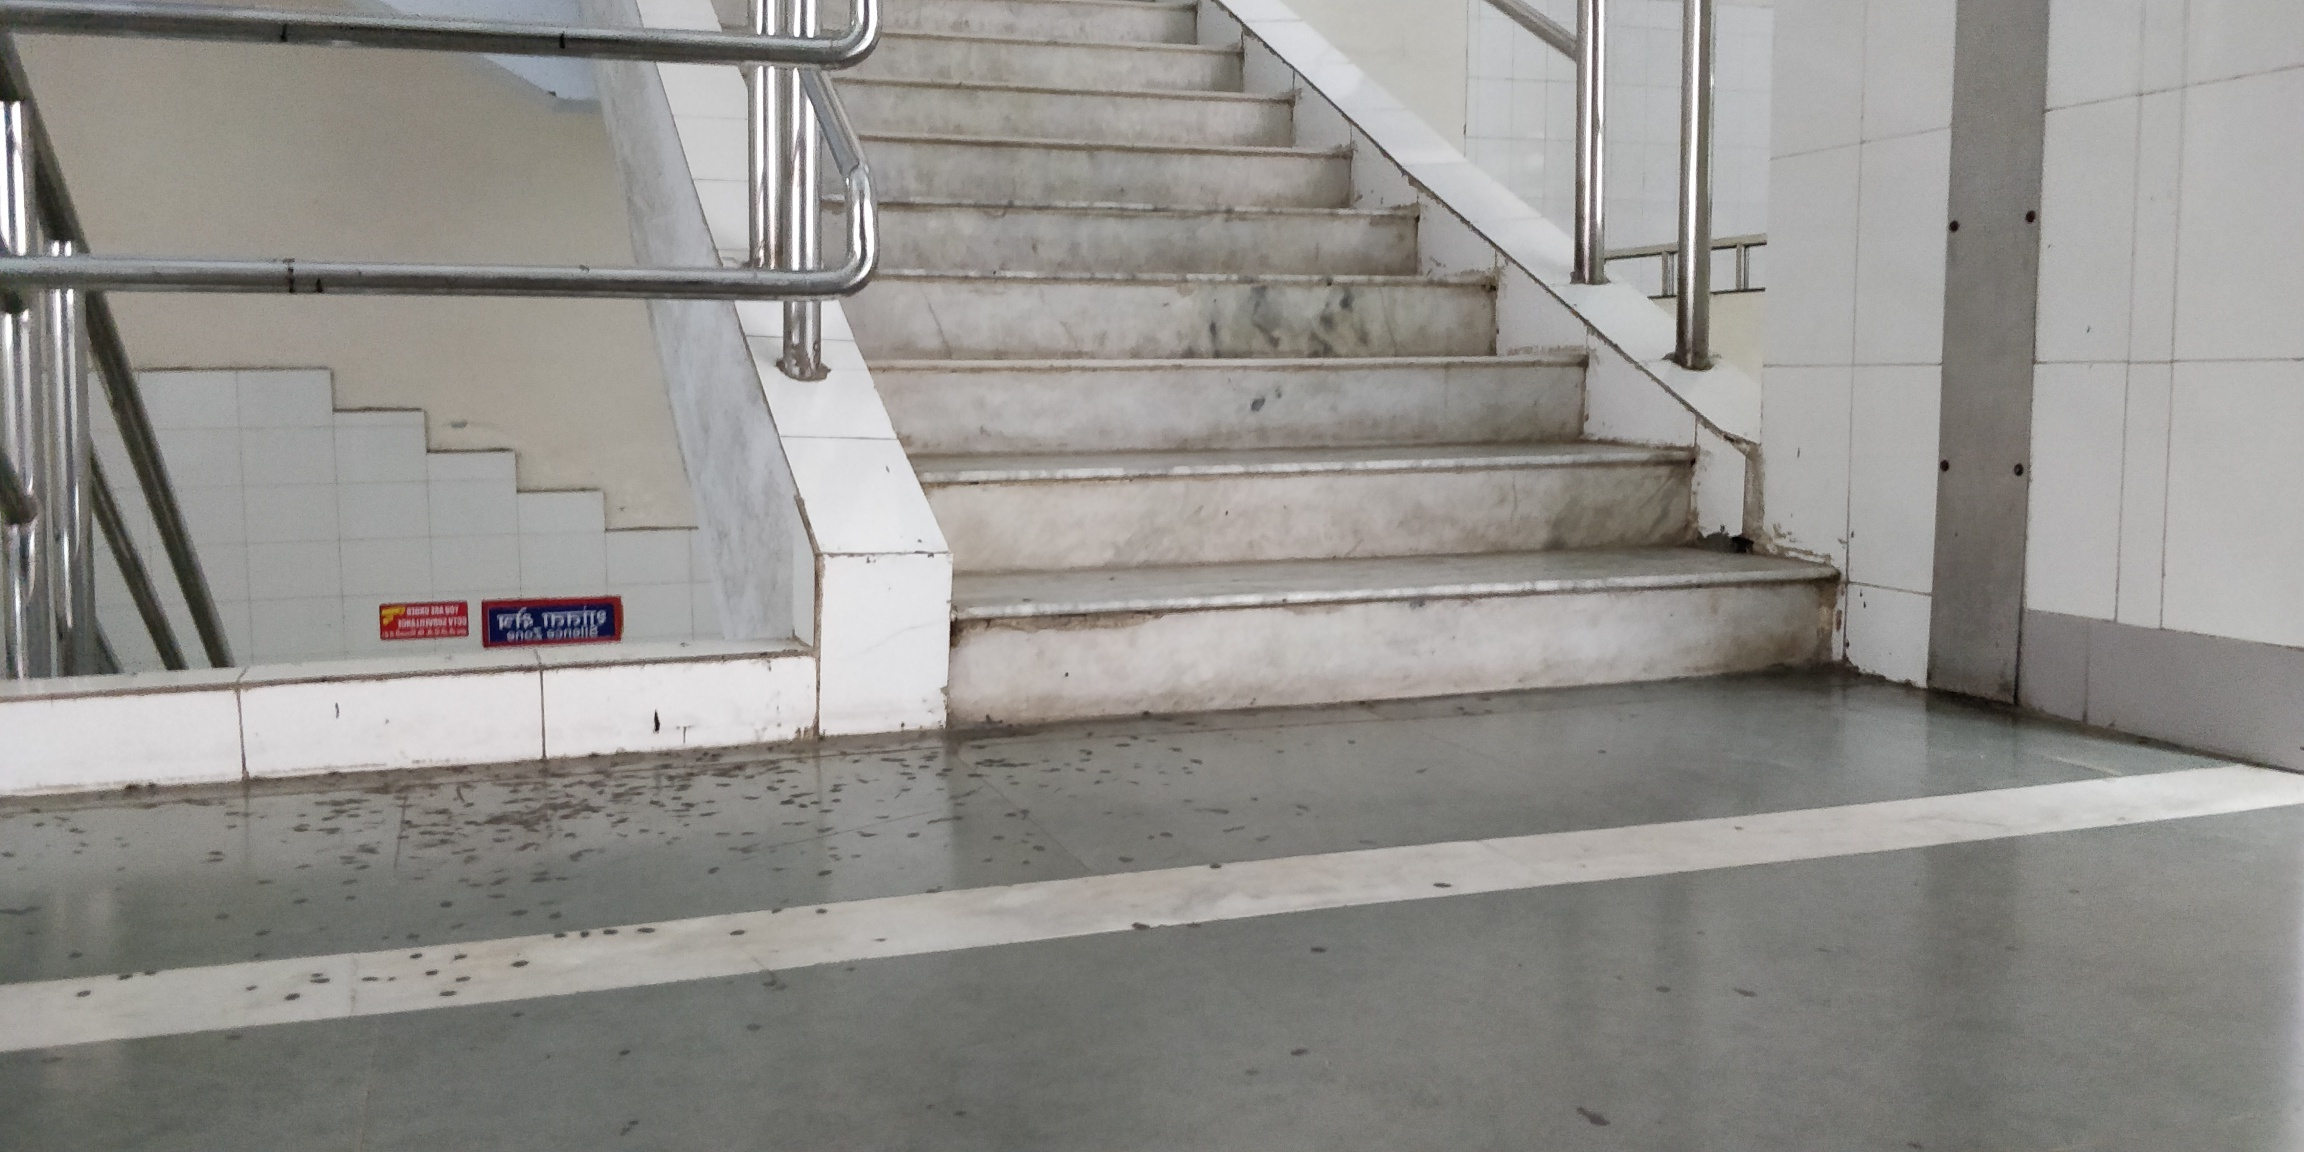stairs_up: (760, 15, 1818, 721)
